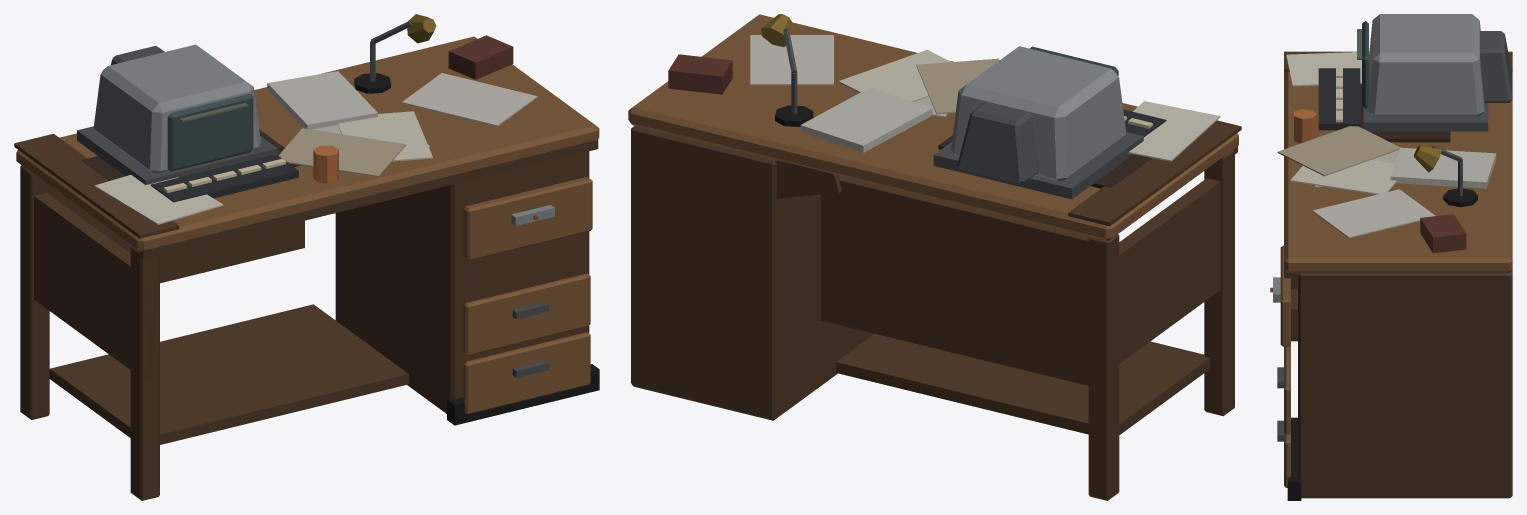
The model's file is furn_desk.fbx.
3 views of the same model, side by side, from view 1: azimuth 30°, elevation 25°; view 2: azimuth 150°, elevation 25°; view 3: azimuth 270°, elevation 25° (orthographic). The views are drawn at different scales.
Visible parts, largest first — view 1: furn_desk, Drawer_1; view 2: furn_desk; view 3: furn_desk, Drawer_1.
Boxes of the visible parts, x1,y1,x2,y2 form: furn_desk: (14, 14, 599, 500); Drawer_1: (463, 177, 592, 260); furn_desk: (628, 14, 1241, 500); furn_desk: (1277, 14, 1512, 500); Drawer_1: (1270, 245, 1297, 346).
Bounding box in the file's own units: 1.4 × 1 × 0.7.
